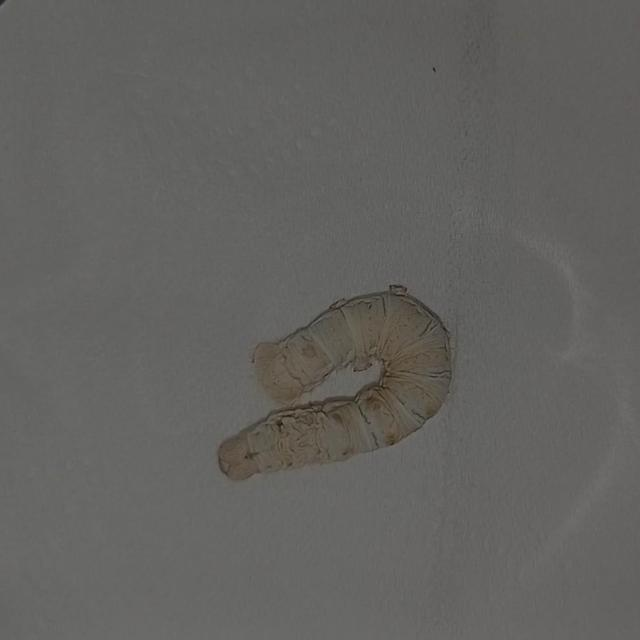Healthy: (195, 268, 470, 500)
